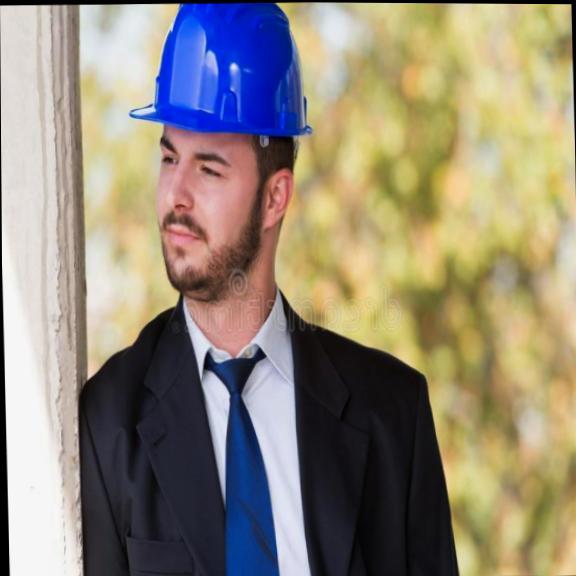no_safety_vest: (67, 289, 431, 576)
